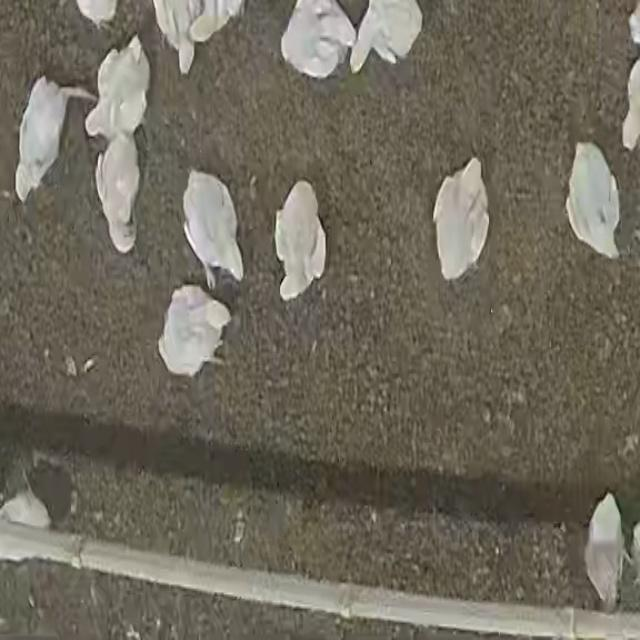chicken: (178, 164, 247, 292), (428, 154, 492, 283), (269, 176, 333, 302), (155, 282, 235, 381), (84, 29, 154, 140), (564, 139, 625, 265), (11, 73, 70, 202), (92, 135, 144, 256)
